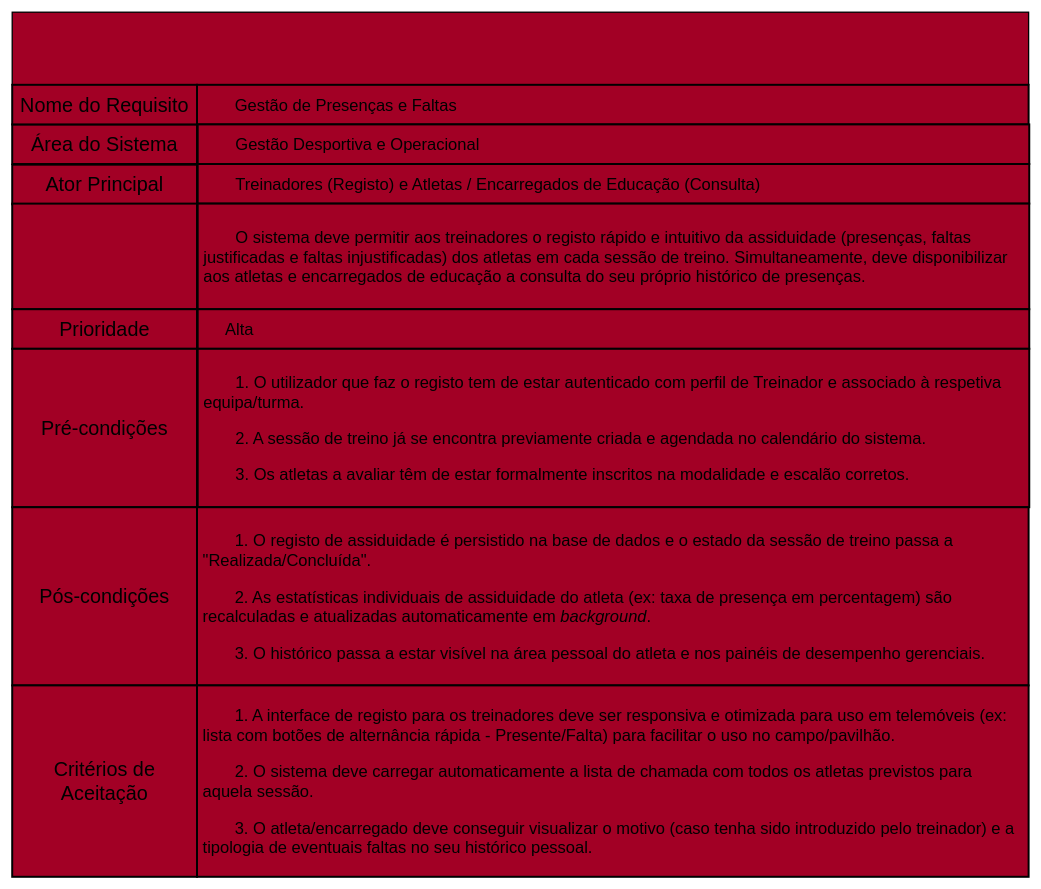
Some shapes in this 1041 by 889 pixel diagram are drawn without their labels. Each missing label, with the box of its shape:
Descrição: (11, 202, 198, 310)
RF-07: (11, 11, 1029, 85)
